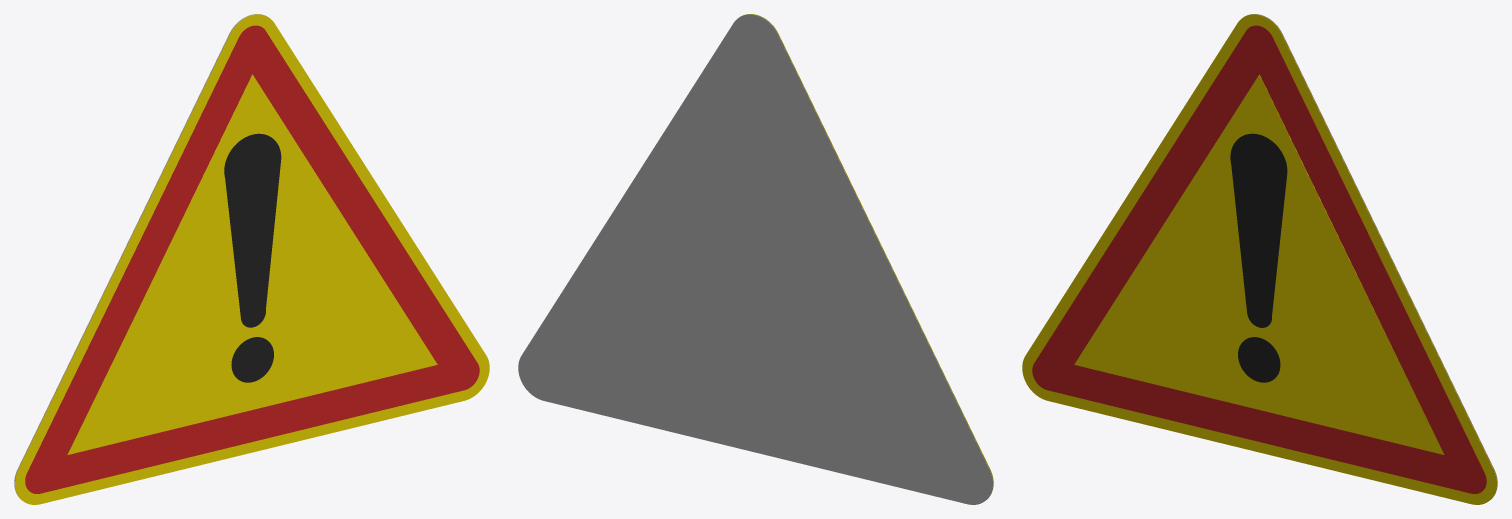
3 renders of one model, left to right at view 1: azimuth 30°, elevation 25°; view 2: azimuth 150°, elevation 25°; view 3: azimuth 330°, elevation 25°, orthographic.
Visible parts, largest first — view 1: AK14_p02, AK14_p01, AK14_p00, AK14_p04, AK14_p03, AK14_dos; view 2: AK14_dos, AK14_p00; view 3: AK14_p02, AK14_p01, AK14_p00, AK14_p04, AK14_p03, AK14_dos.
Boxes of the visible parts, bbox=[...] form: AK14_p02: bbox=[67, 74, 437, 454]; AK14_p01: bbox=[25, 25, 479, 493]; AK14_p00: bbox=[15, 14, 489, 504]; AK14_p04: bbox=[224, 133, 281, 327]; AK14_p03: bbox=[231, 337, 273, 382]; AK14_dos: bbox=[14, 14, 267, 499]; AK14_dos: bbox=[518, 14, 992, 504]; AK14_p00: bbox=[740, 14, 993, 499]; AK14_p02: bbox=[1074, 74, 1444, 454]; AK14_p01: bbox=[1032, 25, 1486, 493]; AK14_p00: bbox=[1022, 14, 1496, 504]; AK14_p04: bbox=[1230, 133, 1287, 327]; AK14_p03: bbox=[1238, 337, 1280, 382]; AK14_dos: bbox=[1244, 14, 1497, 499].
Size of the model in its own units: 0.7 by 0.6162 by 0.0035.
